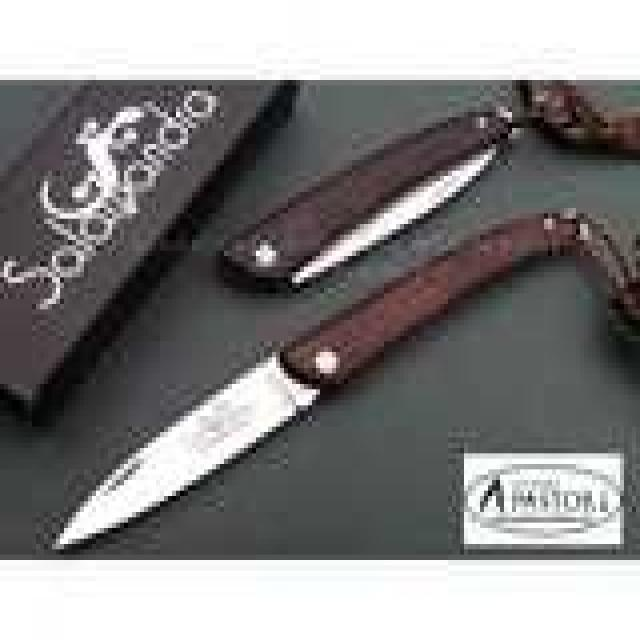Knife: (51, 189, 587, 553)
